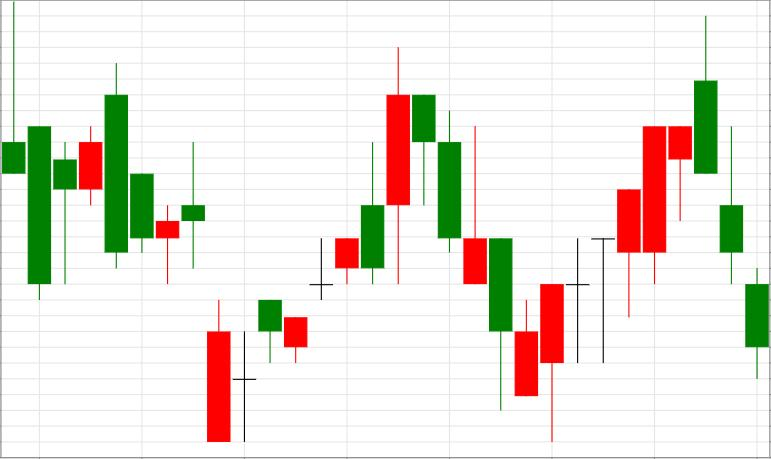hanging_man_fall: (233, 46, 435, 442), (515, 127, 692, 441)
three_black_crows_fall: (515, 16, 769, 442)
